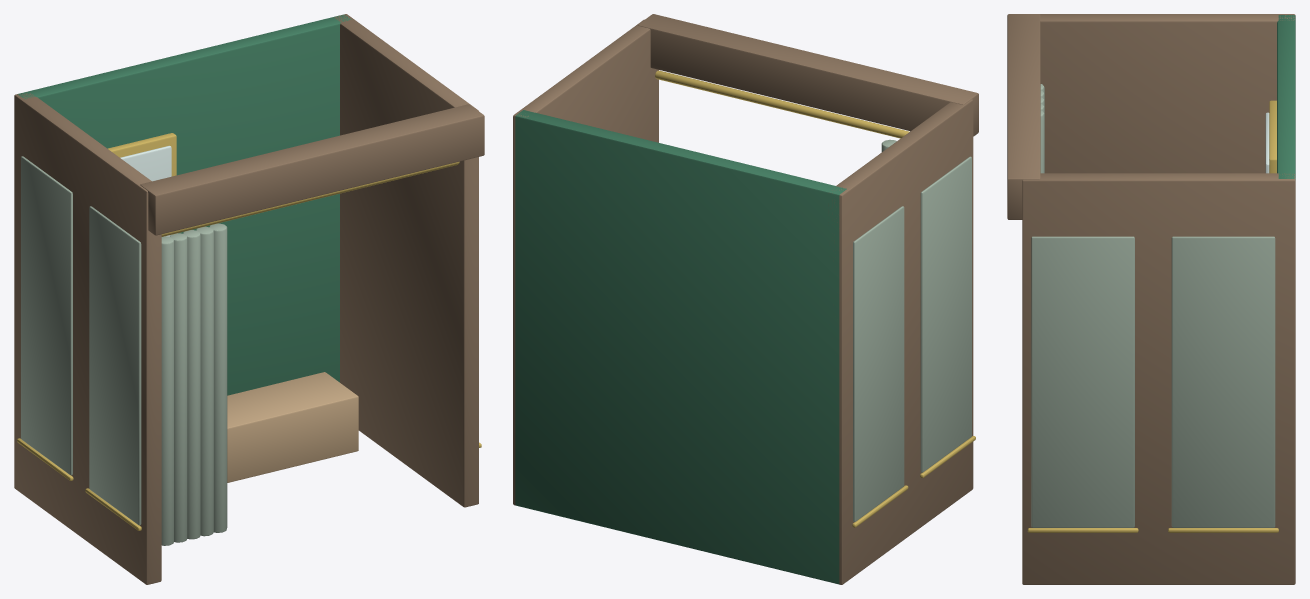
The model's file is fitting_room.glb.
The picture shows the model from 3 angles, left to right: view 1: azimuth 30°, elevation 25°; view 2: azimuth 150°, elevation 25°; view 3: azimuth 270°, elevation 25°; orthographic projection. The views are drawn at different scales.
Visible parts, largest first — view 1: fitting_room; view 2: fitting_room; view 3: fitting_room.
Part boxes in pixels (x1=…): fitting_room: x1=14, y1=14, x2=484, y2=584; fitting_room: x1=513, y1=14, x2=978, y2=584; fitting_room: x1=1007, y1=14, x2=1295, y2=584.
Size of the model in its own units: 2.21 by 2.42 by 1.56.
